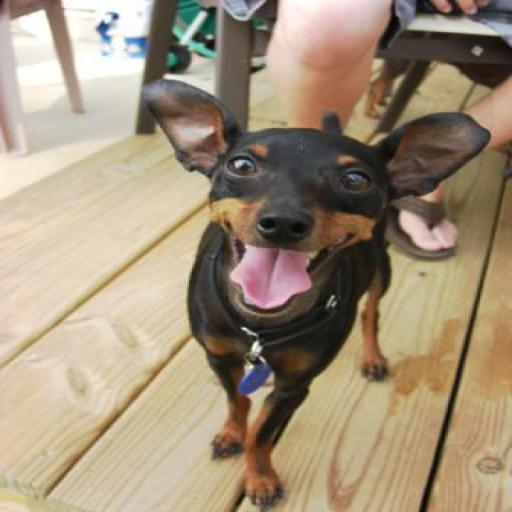dog_face: (144, 83, 485, 302)
